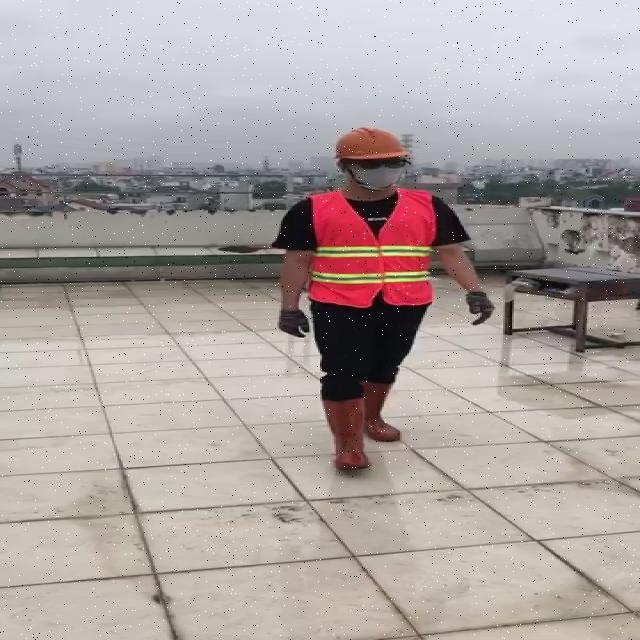Hard_hat: (328, 125, 416, 171)
Vest: (305, 183, 439, 307)
